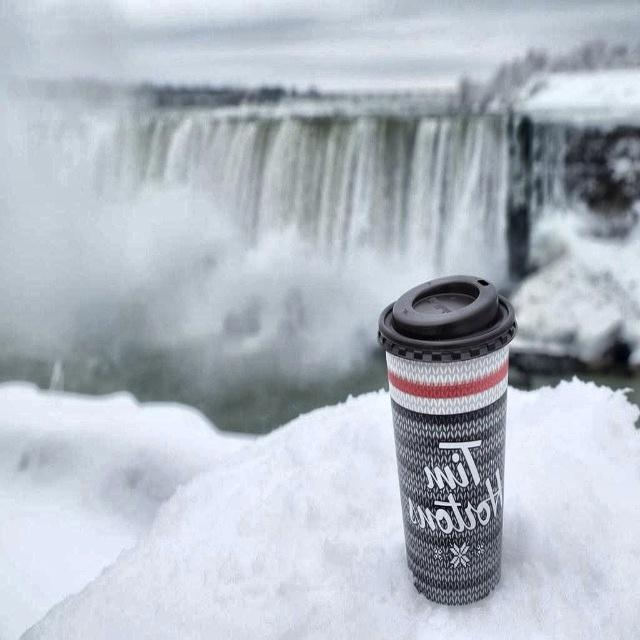timmies: (374, 270, 520, 608)
